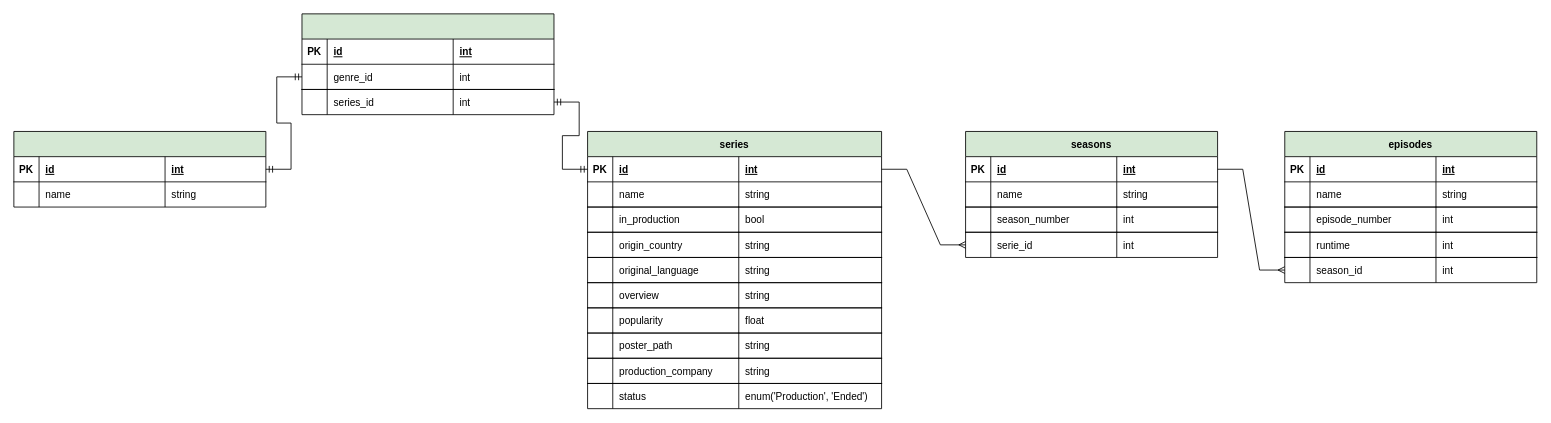
This 1551x423 diagram has some shape labels left out. Each missing label, with the box of its shape:
genres: (13, 131, 266, 207)
genres_series: (301, 13, 554, 115)
